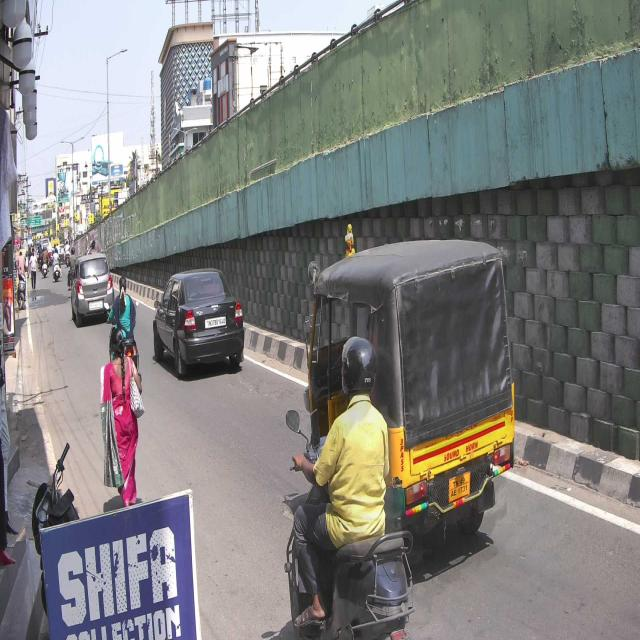single_rider: (283, 337, 417, 640)
